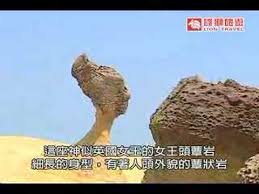yehliu: (68, 50, 136, 118)
